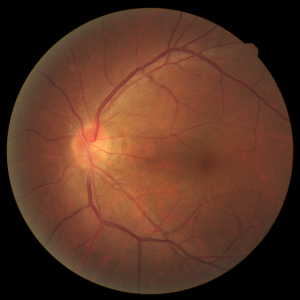healthy_eye: (47, 92, 263, 218)
